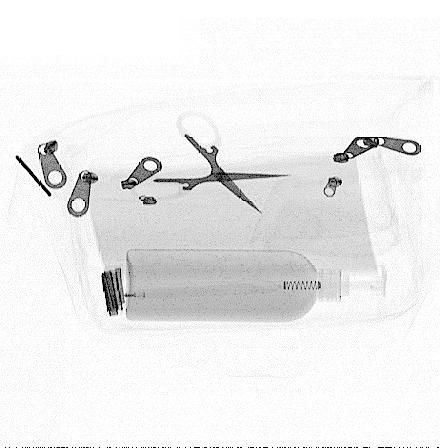Scissors: (125, 111, 294, 216)
